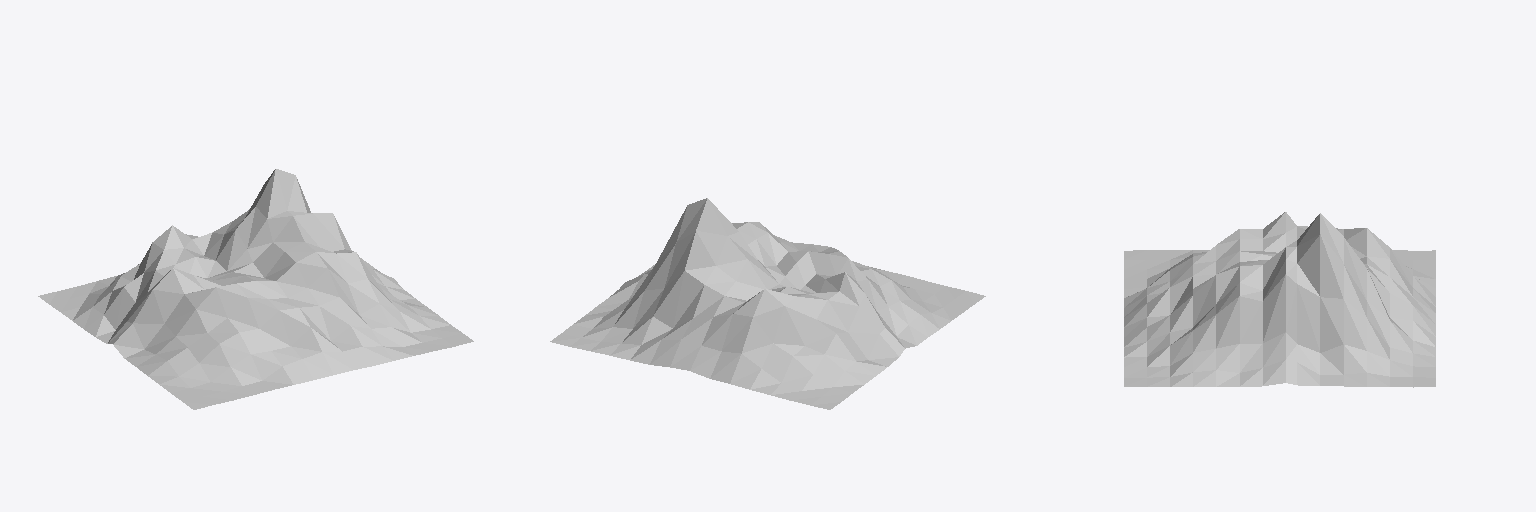
Rendered from Mountain_01.obj.
The picture shows the model from 3 angles: view 1: azimuth 30°, elevation 25°; view 2: azimuth 150°, elevation 25°; view 3: azimuth 270°, elevation 25°; orthographic projection.
Parts seen in each view (by area): view 1: Plane.001; view 2: Plane.001; view 3: Plane.001.
Part boxes in pixels (left/top/right/bottom): Plane.001: left=38, top=169, right=473, bottom=409; Plane.001: left=550, top=198, right=985, bottom=409; Plane.001: left=1124, top=212, right=1435, bottom=387.
Size of the model in its own units: 127 by 54.74 by 123.